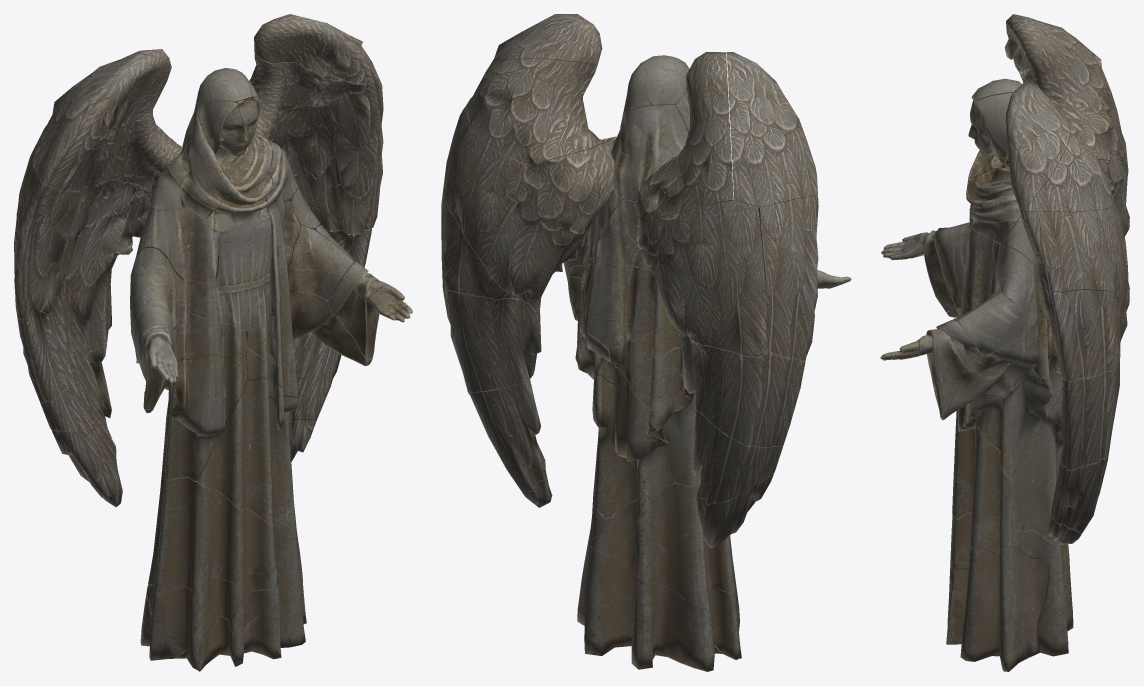
File: SM_Nun_Wings_Shattered.fbx
The picture shows the model from 3 angles, left to right: view 1: azimuth 30°, elevation 25°; view 2: azimuth 150°, elevation 25°; view 3: azimuth 270°, elevation 25°; orthographic projection. The views are drawn at different scales.
Parts seen in each view (by area): view 1: SM_Nun_Combined_cell.049, SM_Nun_Combined_cell.030, SM_Angel_wings_LOD1_cell.009, SM_Angel_wings_LOD1_cell.007, SM_Angel_wings_LOD1_cell.004, SM_Nun_Combined_cell.032, SM_Nun_Combined_cell.034, SM_Angel_wings_LOD1_cell, SM_Nun_Combined_cell.050, SM_Nun_Combined_cell.038, SM_Angel_wings_LOD1_cell.012, SM_Angel_wings_LOD1_cell.013 (+25 smaller); view 2: SM_Angel_wings_LOD1_cell.014, SM_Angel_wings_LOD1_cell.010, SM_Angel_wings_LOD1_cell.006, SM_Nun_Combined_cell.028, SM_Angel_wings_LOD1_cell.009, SM_Nun_Combined_cell.049, SM_Angel_wings_LOD1_cell.007, SM_Angel_wings_LOD1_cell.013, SM_Nun_Combined_cell.040, SM_Angel_wings_LOD1_cell.004, SM_Angel_wings_LOD1_cell, SM_Angel_wings_LOD1_cell.001 (+19 smaller); view 3: SM_Nun_Combined_cell.053, SM_Angel_wings_LOD1_cell.004, SM_Angel_wings_LOD1_cell.013, SM_Nun_Combined_cell.030, SM_Angel_wings_LOD1_cell.008, SM_Angel_wings_LOD1_cell.012, SM_Nun_Combined_cell.036, SM_Angel_wings_LOD1_cell.001, SM_Nun_Combined_cell.040, SM_Nun_Combined_cell.051, SM_Angel_wings_LOD1_cell.010, SM_Nun_Combined_cell.050 (+19 smaller).
Boxes of the visible parts, <box> form: SM_Nun_Combined_cell.049: <box>148,469,294,592</box>; SM_Nun_Combined_cell.030: <box>197,378,298,528</box>; SM_Angel_wings_LOD1_cell.009: <box>31,53,154,191</box>; SM_Angel_wings_LOD1_cell.007: <box>15,246,132,402</box>; SM_Angel_wings_LOD1_cell.004: <box>264,77,383,202</box>; SM_Nun_Combined_cell.032: <box>143,353,247,481</box>; SM_Nun_Combined_cell.034: <box>218,201,300,331</box>; SM_Angel_wings_LOD1_cell: <box>14,152,85,319</box>; SM_Nun_Combined_cell.050: <box>130,247,187,409</box>; SM_Nun_Combined_cell.038: <box>146,569,277,671</box>; SM_Angel_wings_LOD1_cell.012: <box>254,14,377,84</box>; SM_Angel_wings_LOD1_cell.013: <box>102,49,183,189</box>; SM_Angel_wings_LOD1_cell.014: <box>648,200,769,357</box>; SM_Angel_wings_LOD1_cell.010: <box>466,58,605,164</box>; SM_Angel_wings_LOD1_cell.006: <box>509,141,614,311</box>; SM_Nun_Combined_cell.028: <box>584,546,715,671</box>; SM_Angel_wings_LOD1_cell.009: <box>726,52,817,208</box>; SM_Nun_Combined_cell.049: <box>590,473,734,607</box>; SM_Angel_wings_LOD1_cell.007: <box>669,318,805,447</box>; SM_Angel_wings_LOD1_cell.013: <box>639,52,733,219</box>; SM_Nun_Combined_cell.040: <box>591,368,674,538</box>; SM_Angel_wings_LOD1_cell.004: <box>444,98,528,302</box>; SM_Angel_wings_LOD1_cell: <box>758,195,818,361</box>; SM_Angel_wings_LOD1_cell.001: <box>442,280,541,392</box>; SM_Nun_Combined_cell.053: <box>960,546,1049,671</box>; SM_Angel_wings_LOD1_cell.004: <box>1018,202,1128,316</box>; SM_Angel_wings_LOD1_cell.013: <box>1013,17,1116,162</box>; SM_Nun_Combined_cell.030: <box>952,406,1023,549</box>; SM_Angel_wings_LOD1_cell.008: <box>1044,289,1127,381</box>; SM_Angel_wings_LOD1_cell.012: <box>1004,82,1069,206</box>; SM_Nun_Combined_cell.036: <box>963,356,1062,478</box>; SM_Angel_wings_LOD1_cell.001: <box>1056,353,1120,470</box>; SM_Nun_Combined_cell.040: <box>1011,389,1063,545</box>; SM_Nun_Combined_cell.051: <box>939,318,1057,420</box>; SM_Angel_wings_LOD1_cell.010: <box>1017,114,1114,211</box>; SM_Nun_Combined_cell.050: <box>881,222,969,312</box>.
Size of the model in its own units: 138 by 217 by 84.26.
